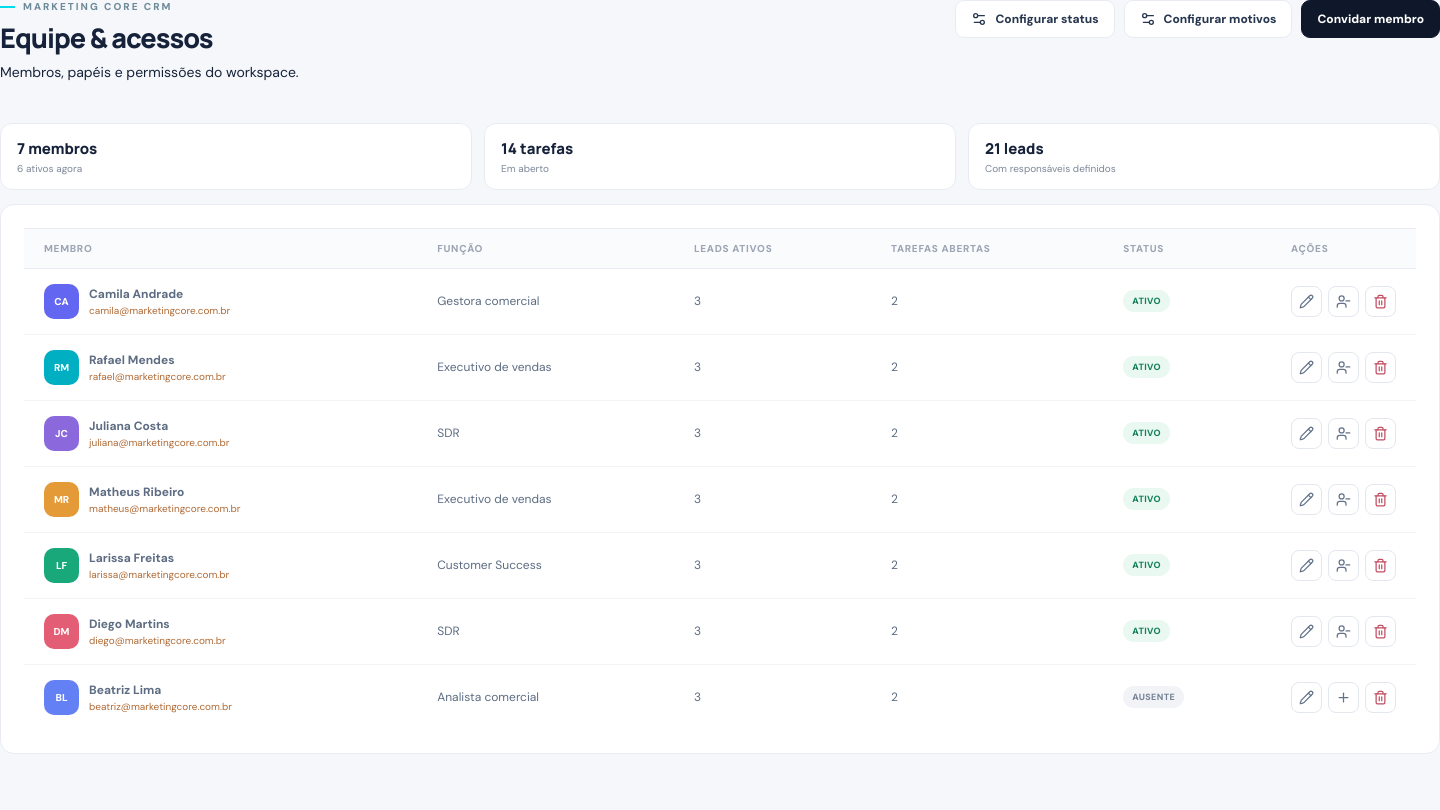
TeamPage administração › inativa um usuário com motivo, período e redistribuição dos leads ativos
Click the button named "Inativar Camila Andrade" at (1344, 301), box [1328,286,1359,317]
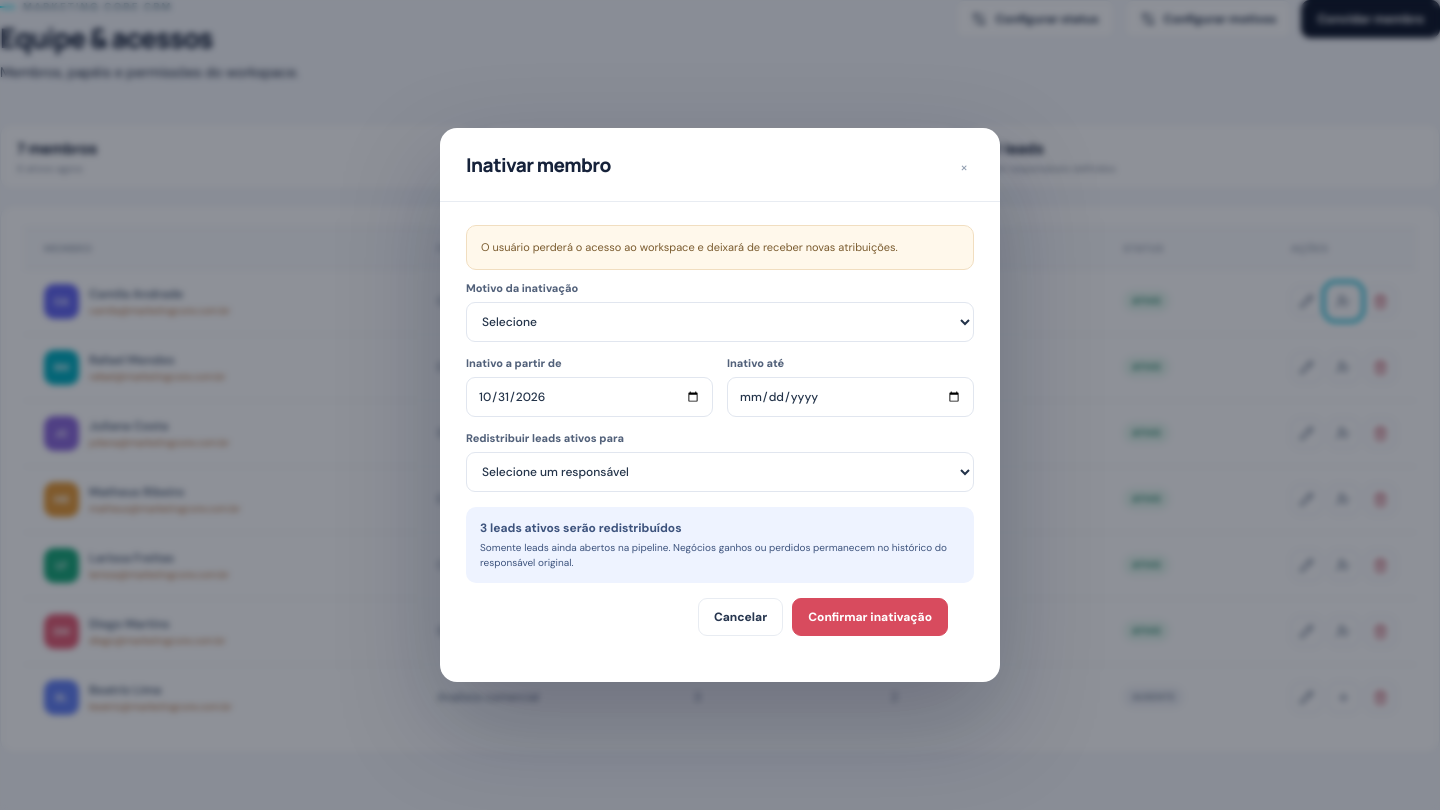
Expected: the dialog "Inativar membro" is shown, [440,128,1000,682]
Select "Férias" in the dropdown labelled "Motivo da inativação" at (720, 322), box [466,302,974,342]
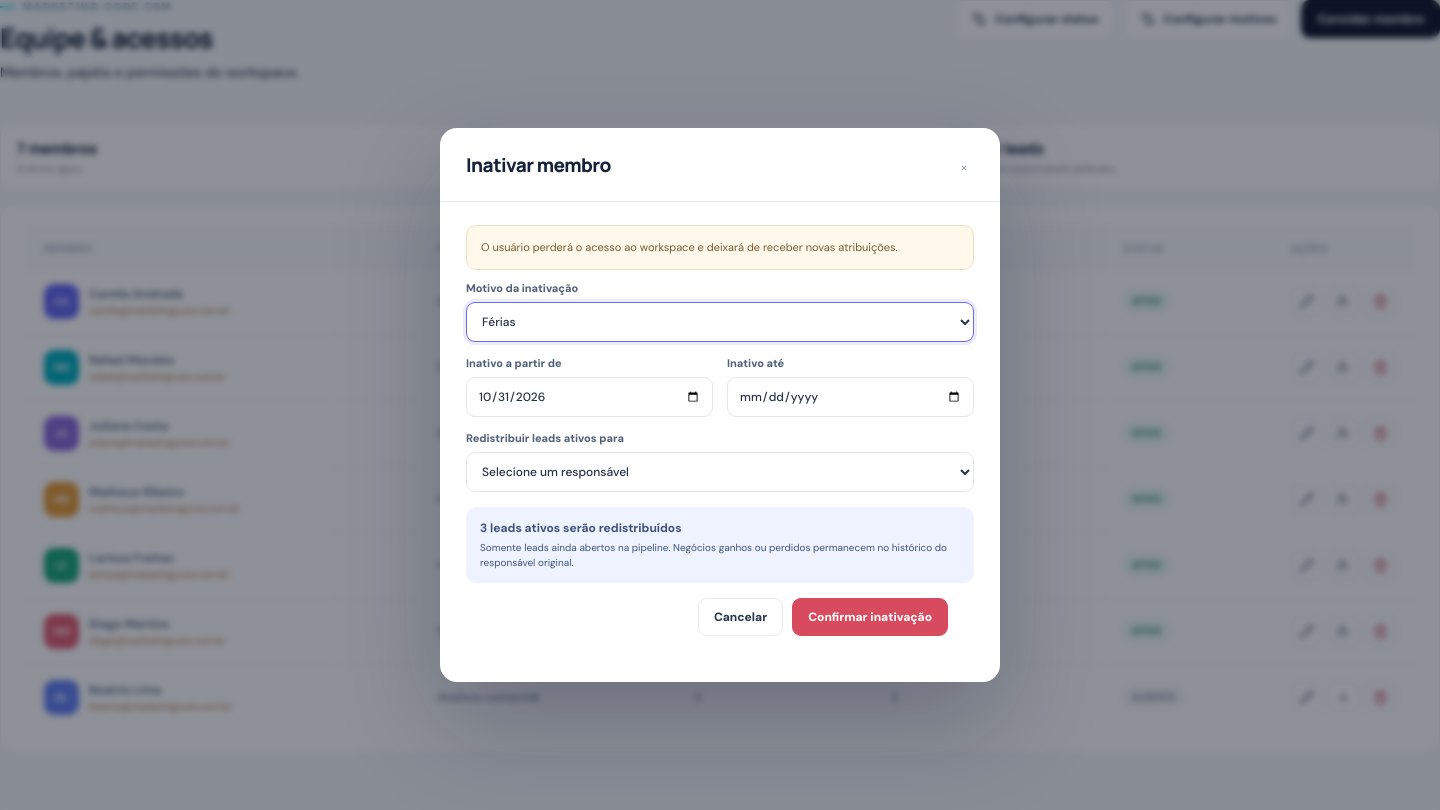
Type "2026-11-10" into the date field labelled "Inativo até" at (850, 397), box [727,377,974,417]
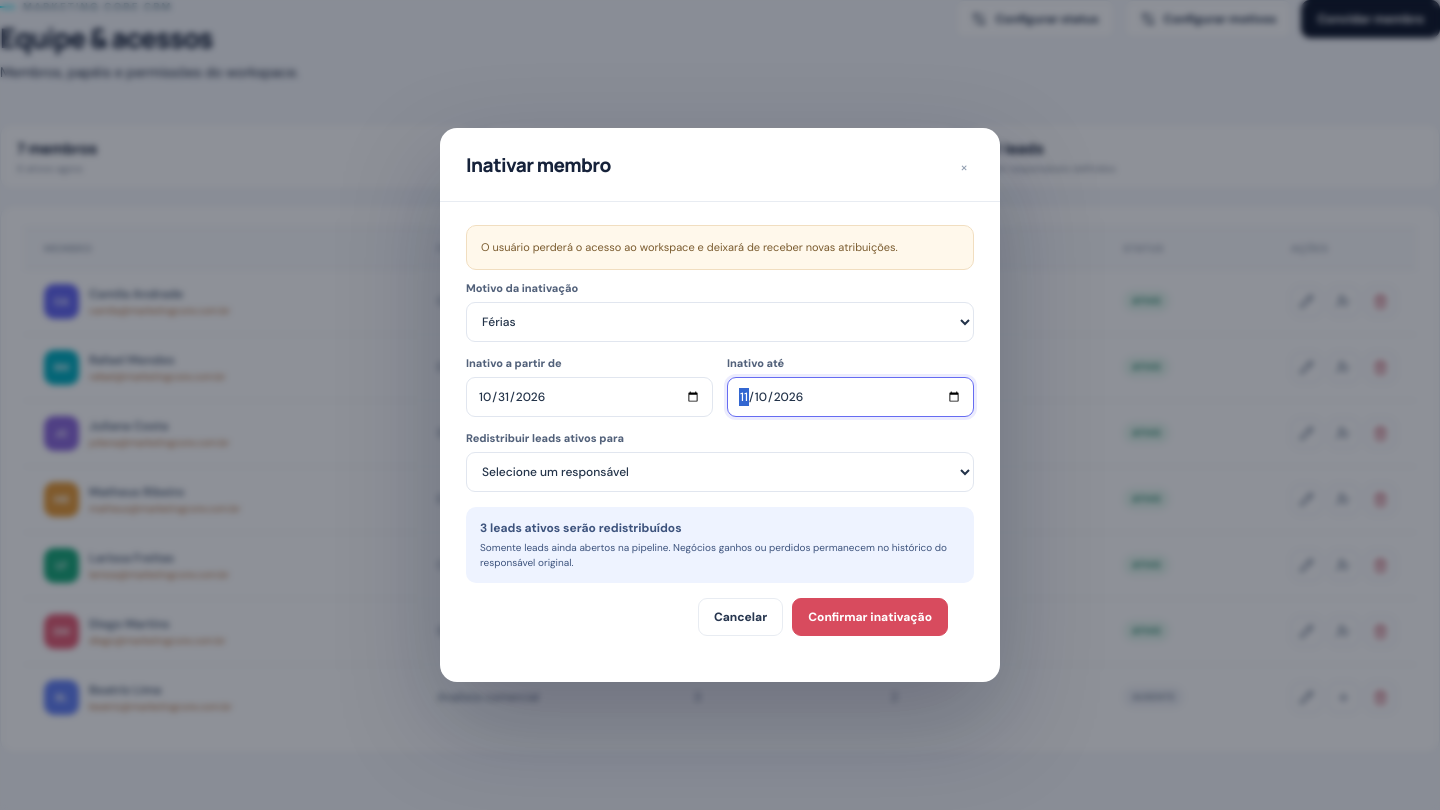
Select "Rafael Mendes" in the dropdown labelled "Redistribuir leads ativos para" at (720, 472), box [466,452,974,492]
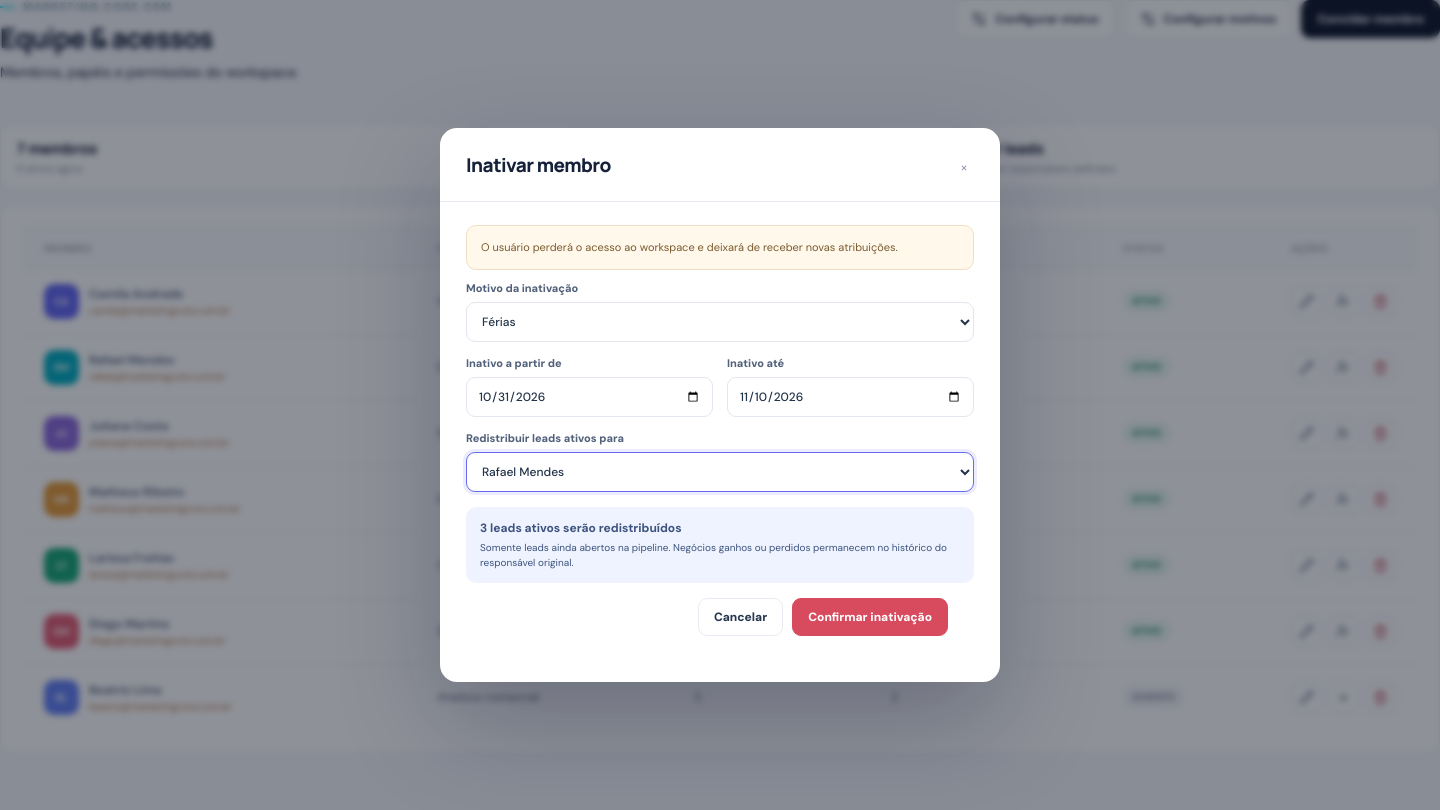
Click the button "Confirmar inativação" at (870, 617), box [792,598,948,636]
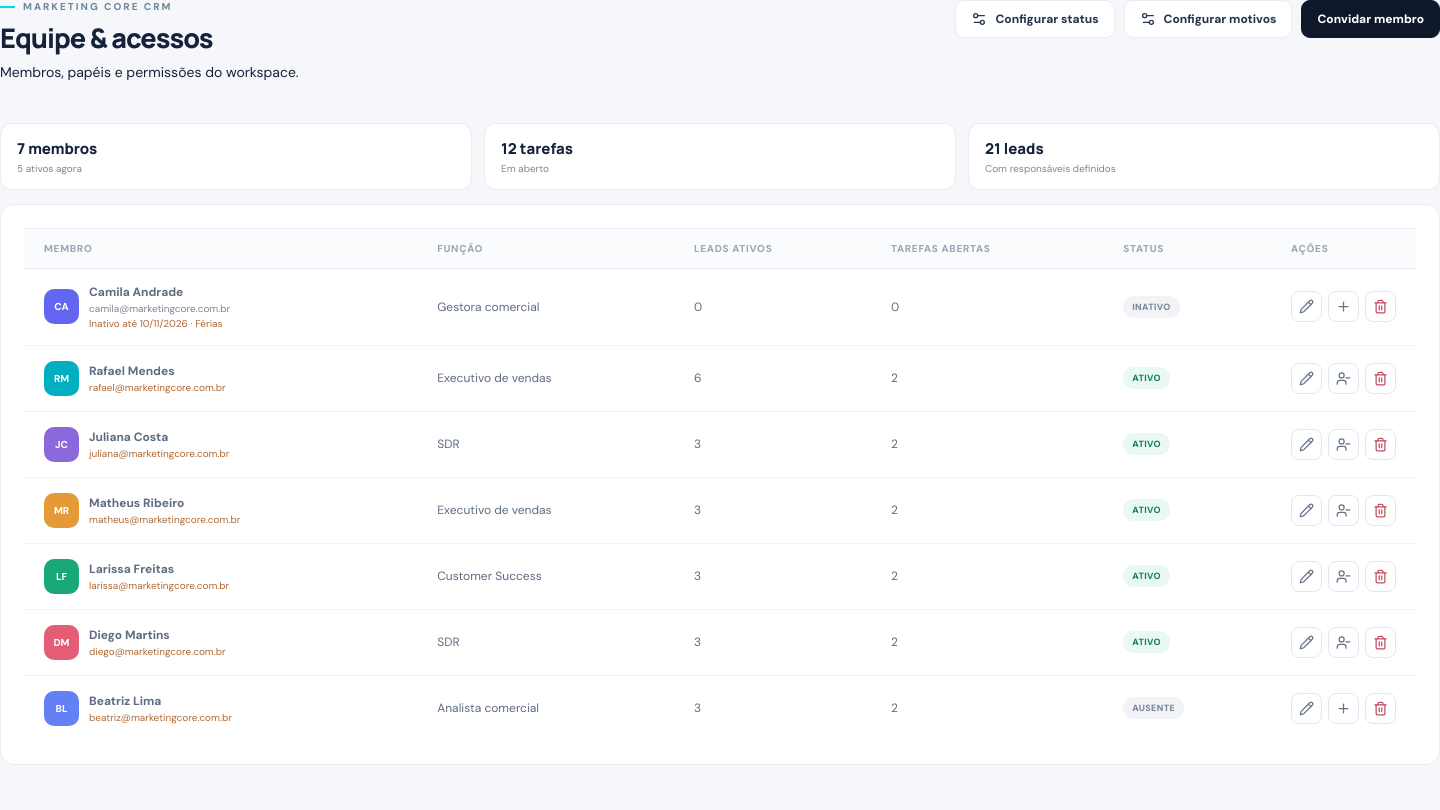
Expected: the text "Inativo" is shown, [1123,296,1180,318]
